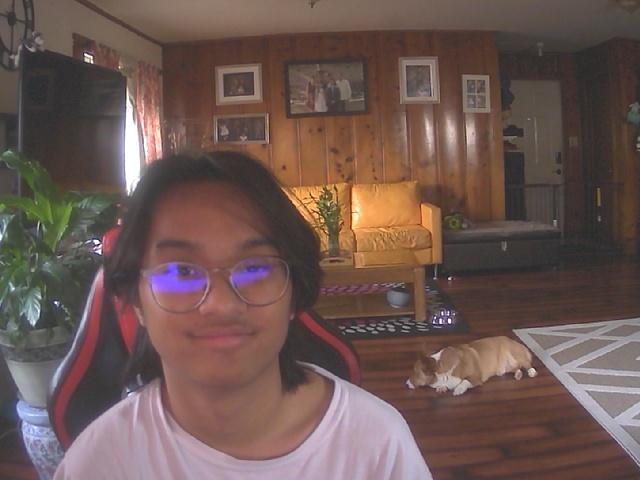happy: (119, 155, 309, 393)
